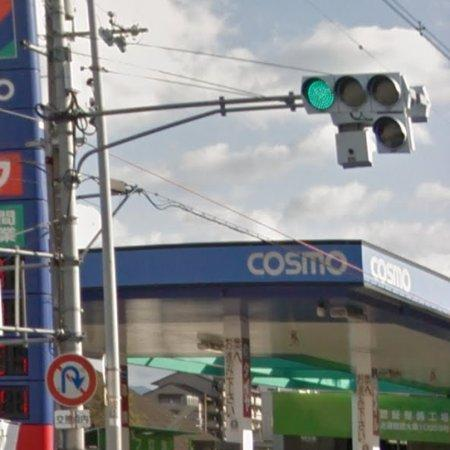traffic lights: (302, 73, 416, 155)
